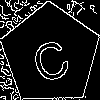C: (26, 29, 73, 85)
